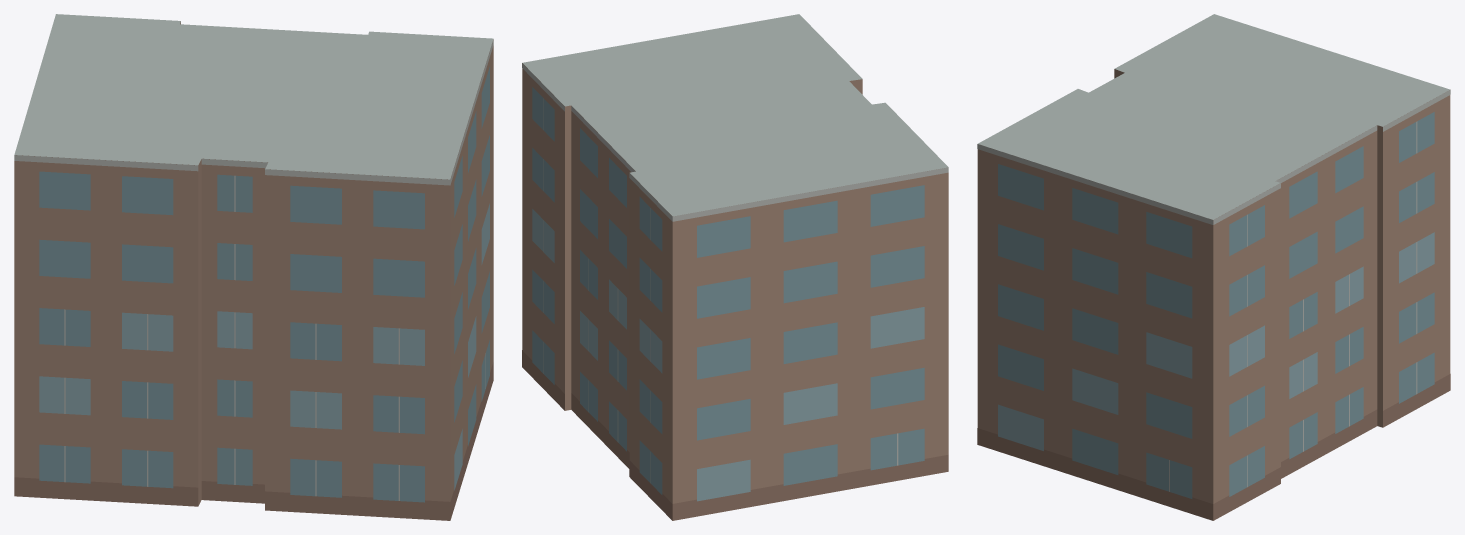
The model's file is survey-upis-32574591.glb.
The picture shows the model from 3 angles, left to right: view 1: azimuth 30°, elevation 25°; view 2: azimuth 150°, elevation 25°; view 3: azimuth 270°, elevation 25°; orthographic projection. The views are drawn at different scales.
Parts seen in each view (by area): view 1: survey-upis-32574591.tmp; view 2: survey-upis-32574591.tmp; view 3: survey-upis-32574591.tmp.
Boxes of the visible parts, x1,y1,x2,y2 form: survey-upis-32574591.tmp: [14, 14, 493, 520]; survey-upis-32574591.tmp: [522, 14, 948, 520]; survey-upis-32574591.tmp: [977, 14, 1450, 520].
Bounding box in the file's own units: 20.63 × 14.05 × 20.02.
